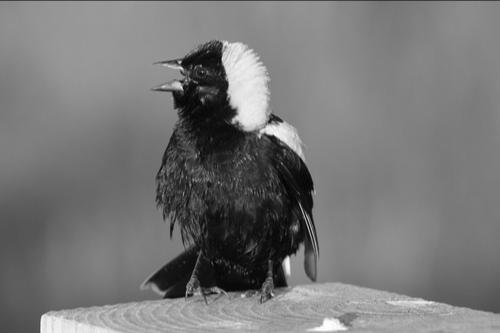bird: (110, 25, 331, 305)
